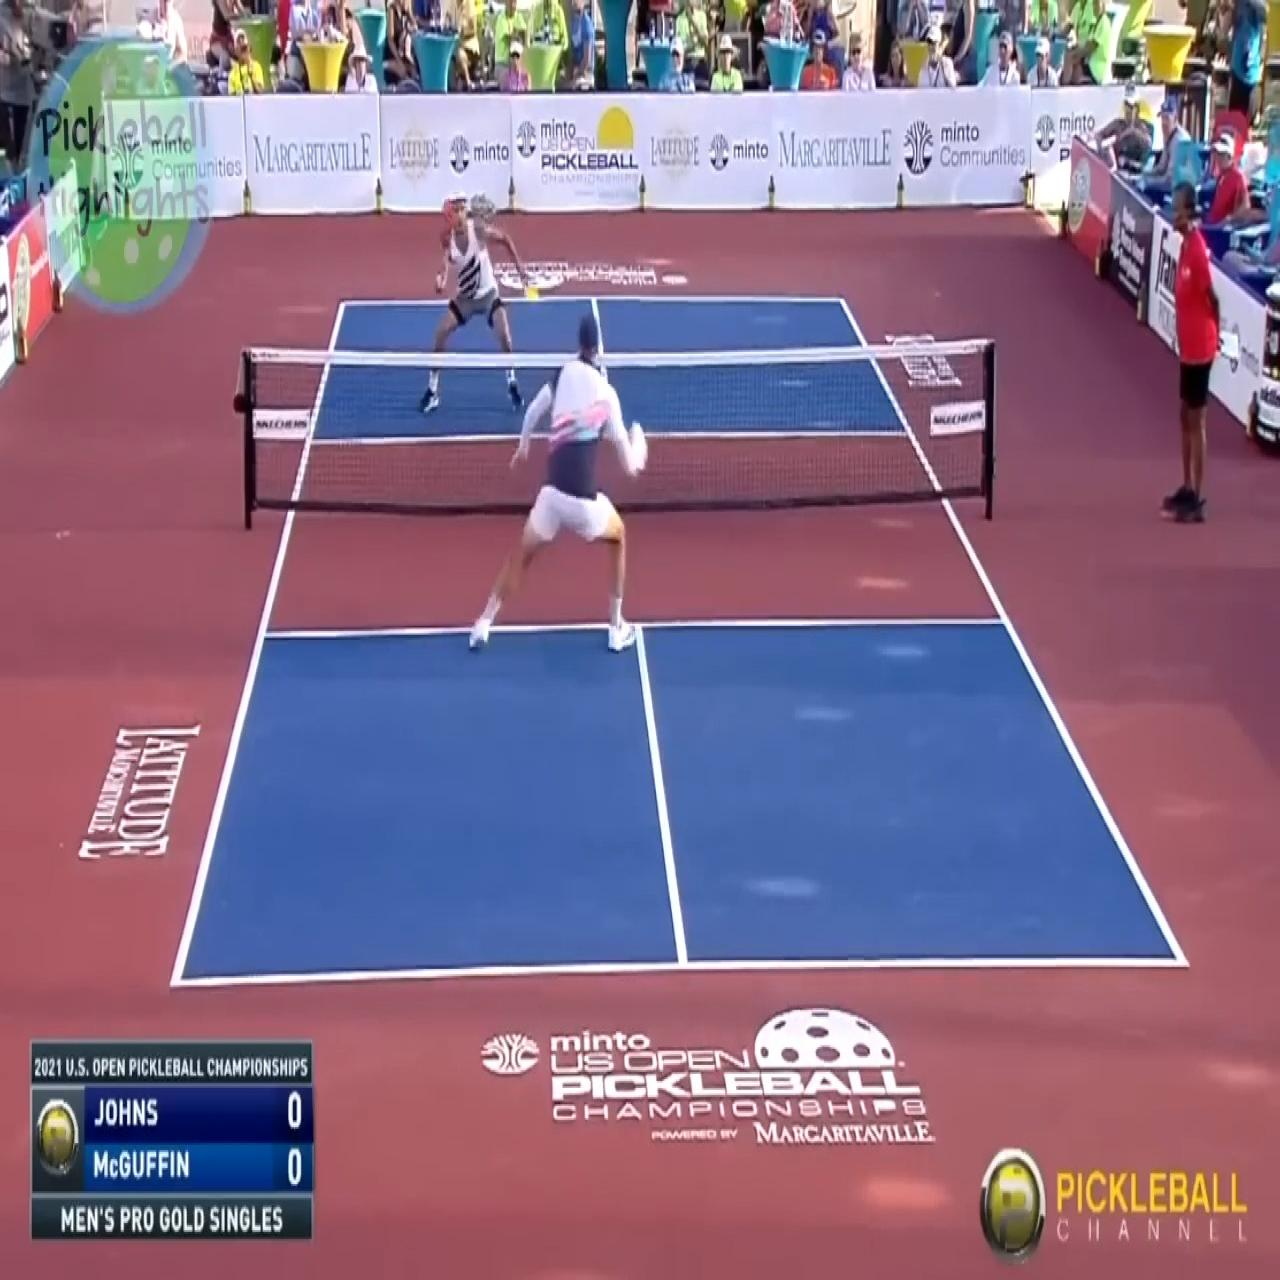pickleball: (525, 282, 539, 299)
